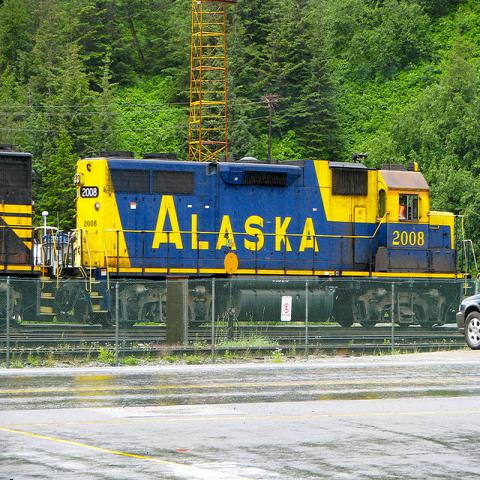car: (457, 291, 479, 351)
